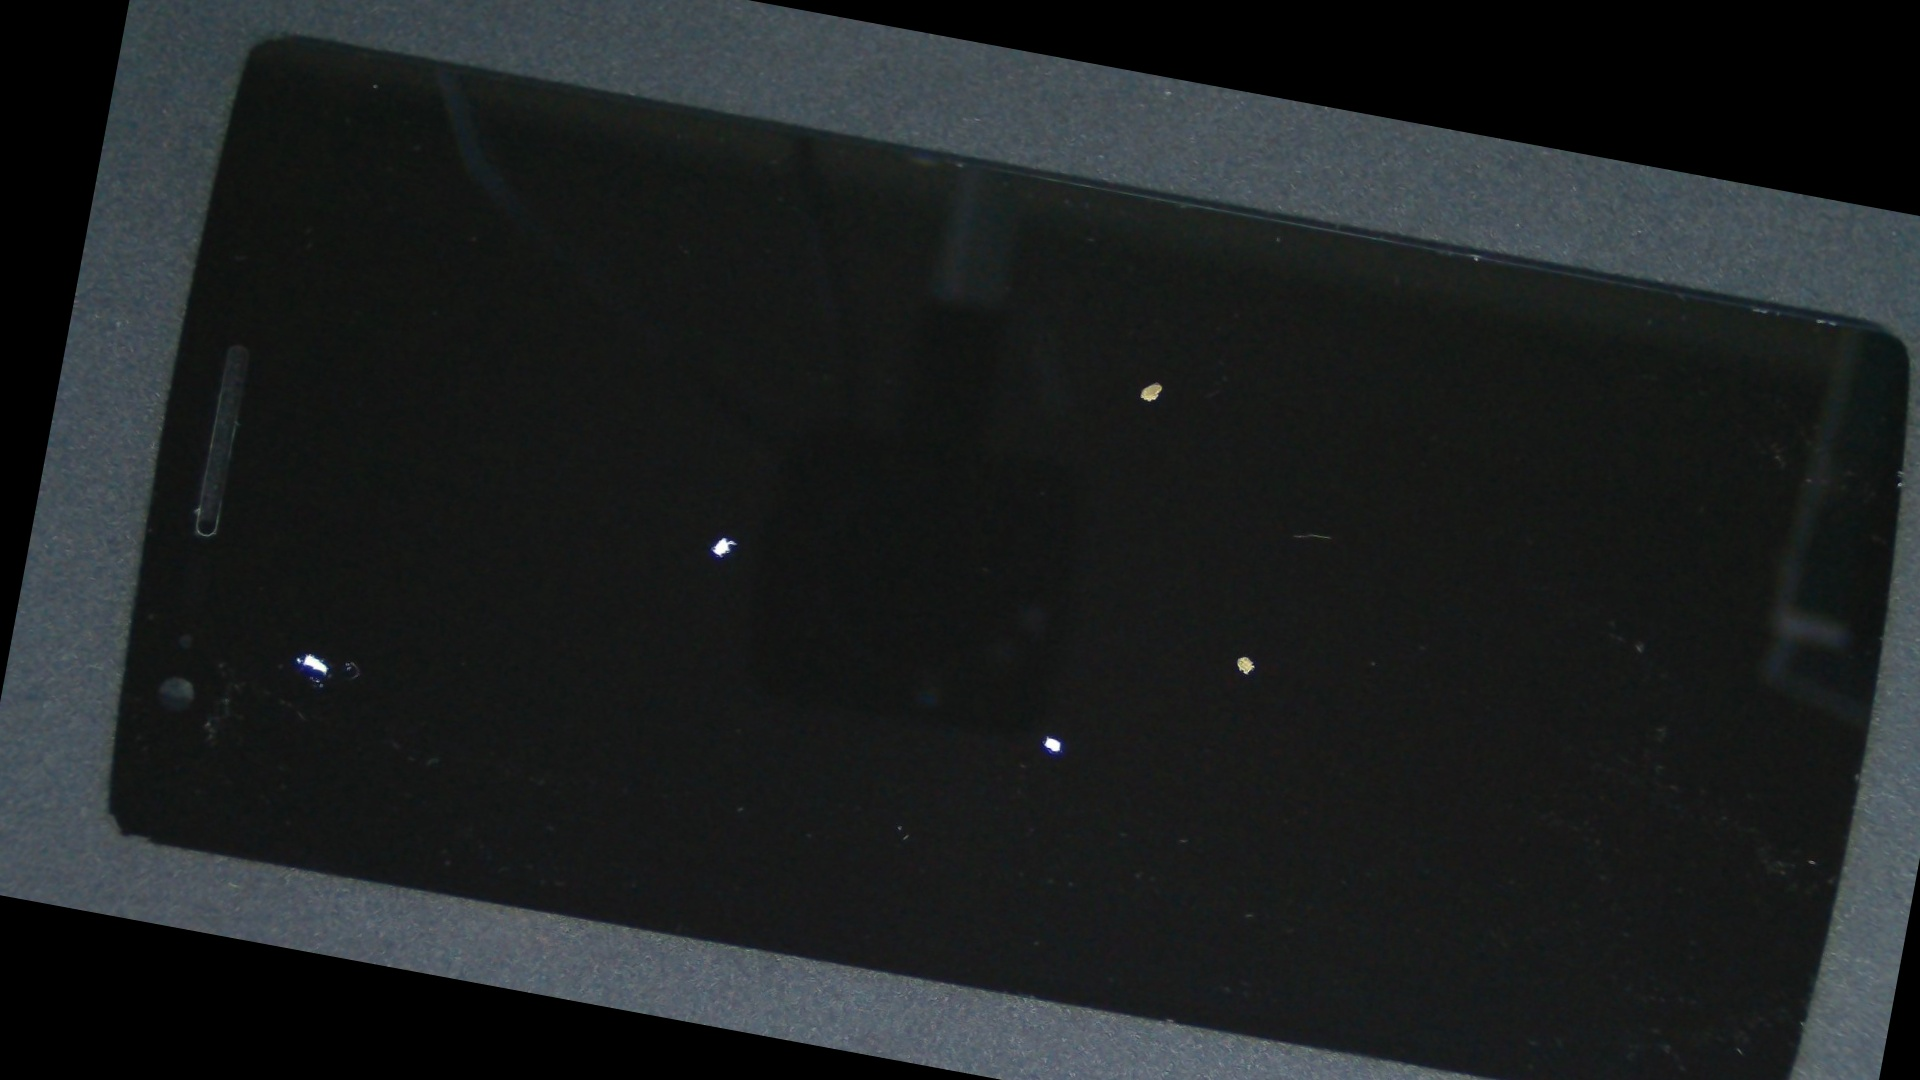oil: (599, 272, 1896, 1038), (475, 306, 1614, 1080), (599, 135, 1712, 626), (342, 211, 1102, 860), (113, 270, 525, 971)
